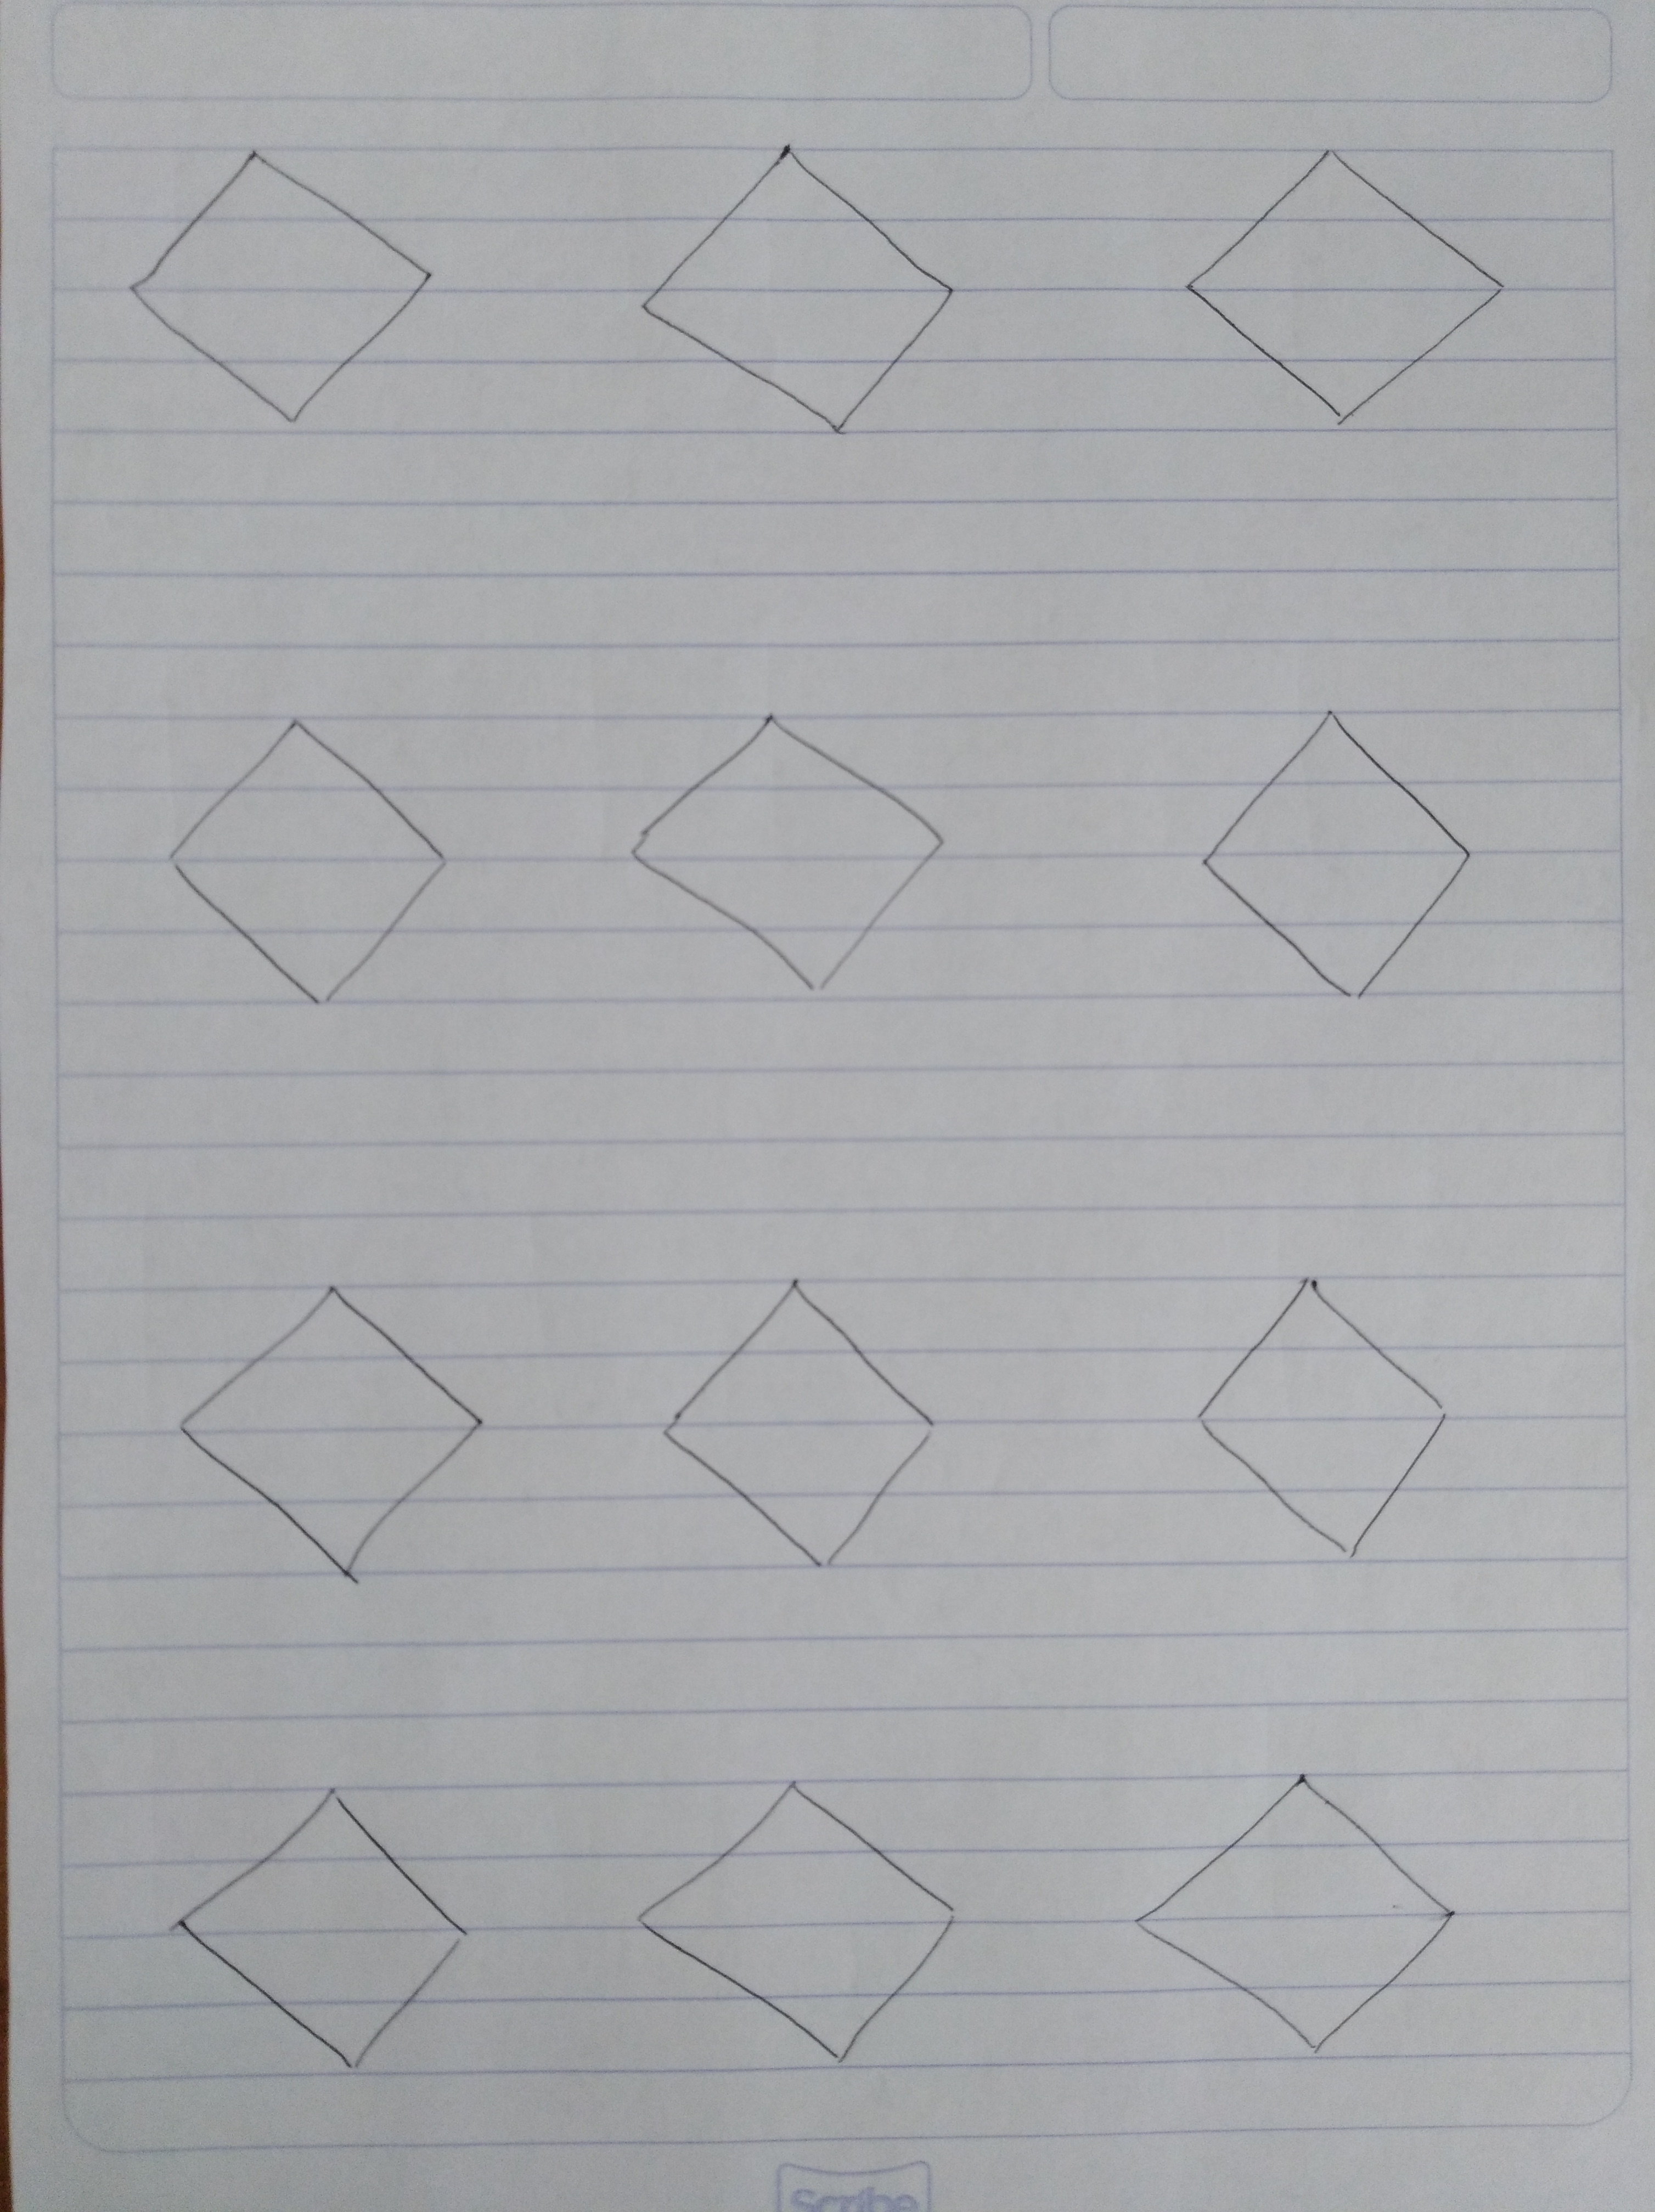decision: (132, 1242, 551, 1619), (582, 97, 1000, 471), (1144, 83, 1552, 462), (106, 1760, 534, 2097), (1097, 1738, 1505, 2090), (1161, 664, 1516, 1048), (603, 685, 989, 1027), (615, 1750, 994, 2090), (629, 1256, 984, 1614), (136, 688, 501, 1034), (108, 111, 462, 464), (1154, 1249, 1507, 1583)
